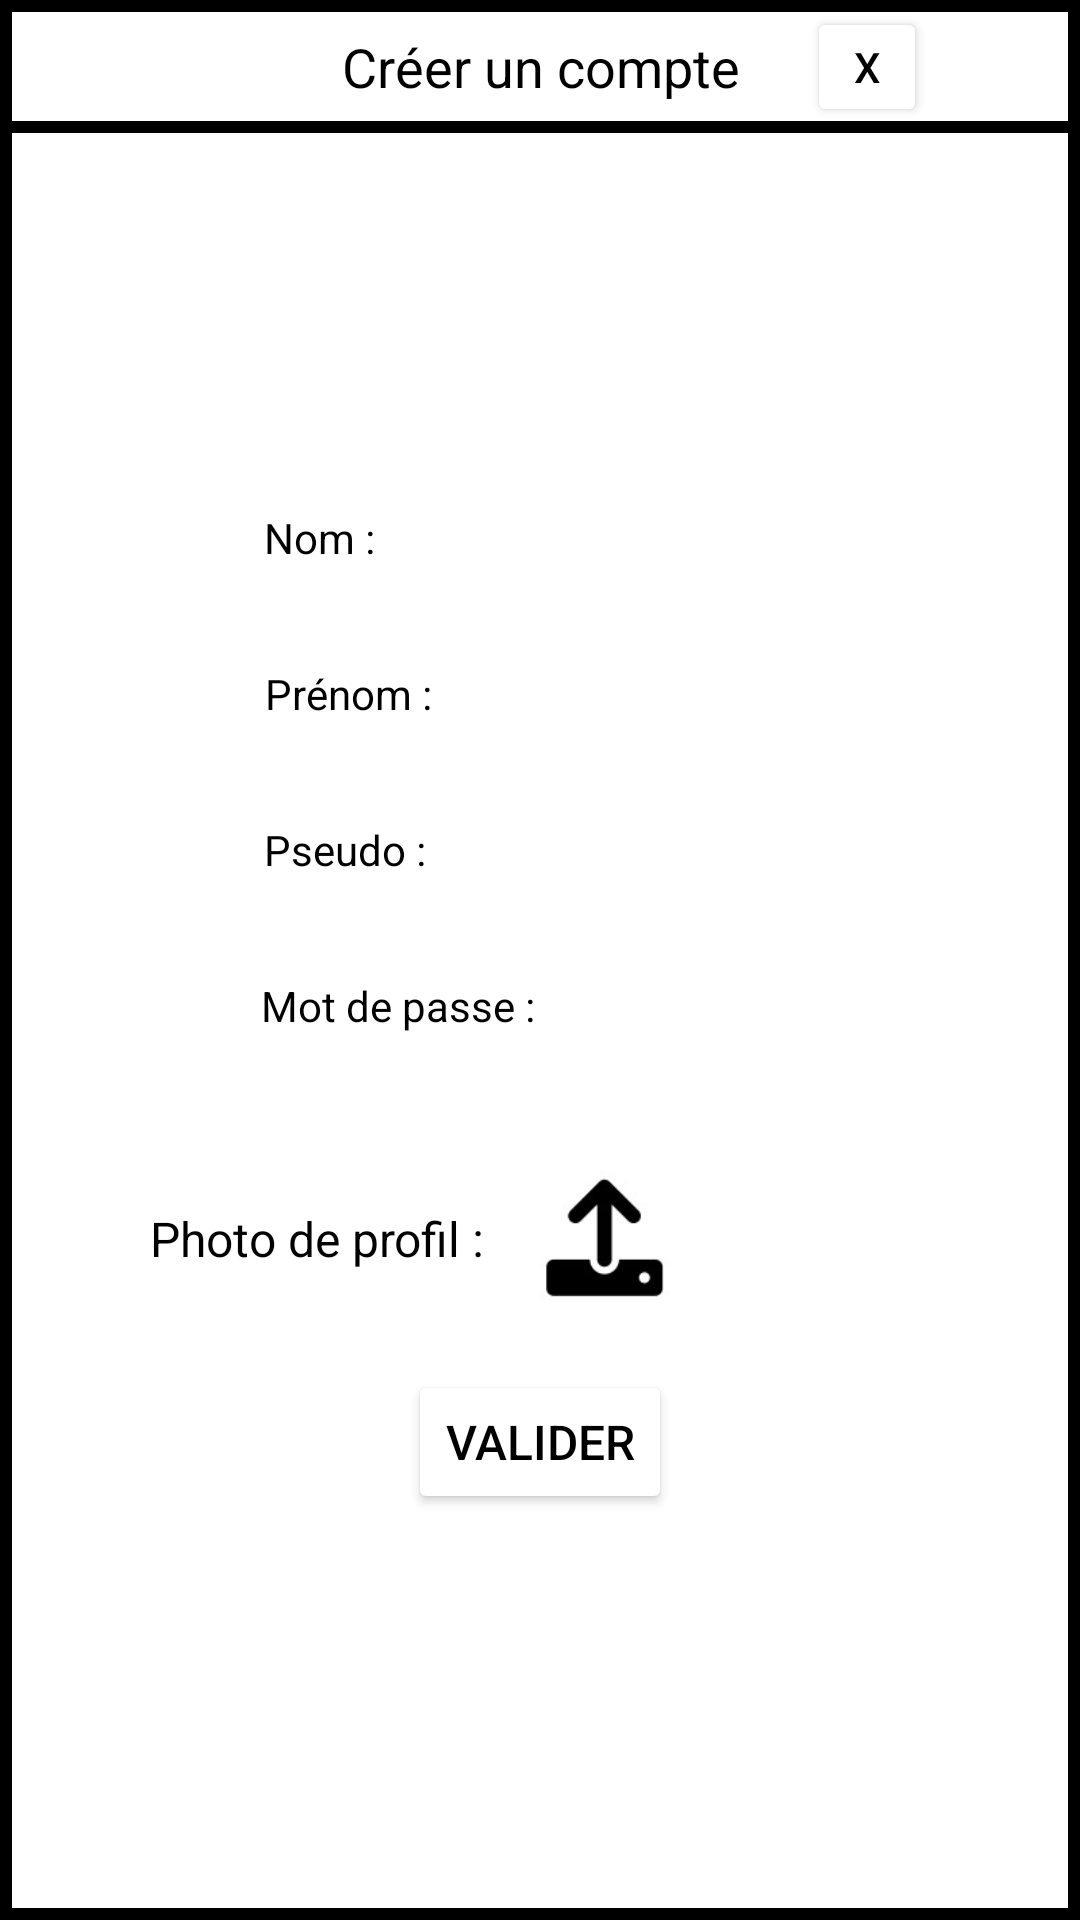

Where icons sit on this 1080×1920 app screen, as (x1, y1, x2, y2):
upload: (546, 1179, 664, 1297)
